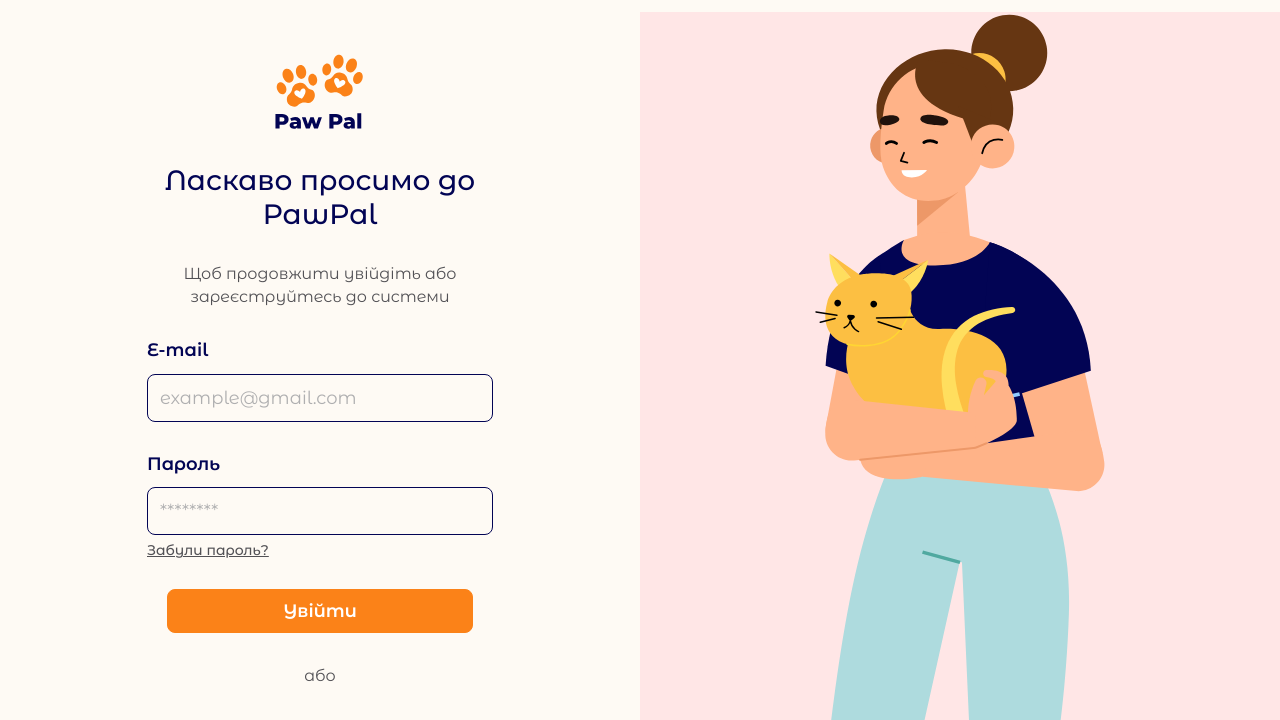
Test: SignUpForm Login › should show validation errors for empty fields
The width and height of the screenshot is (1280, 720).
// Try to submit form without filling fields
Click the button "Увійти" at (320,611), box [167,589,473,633]
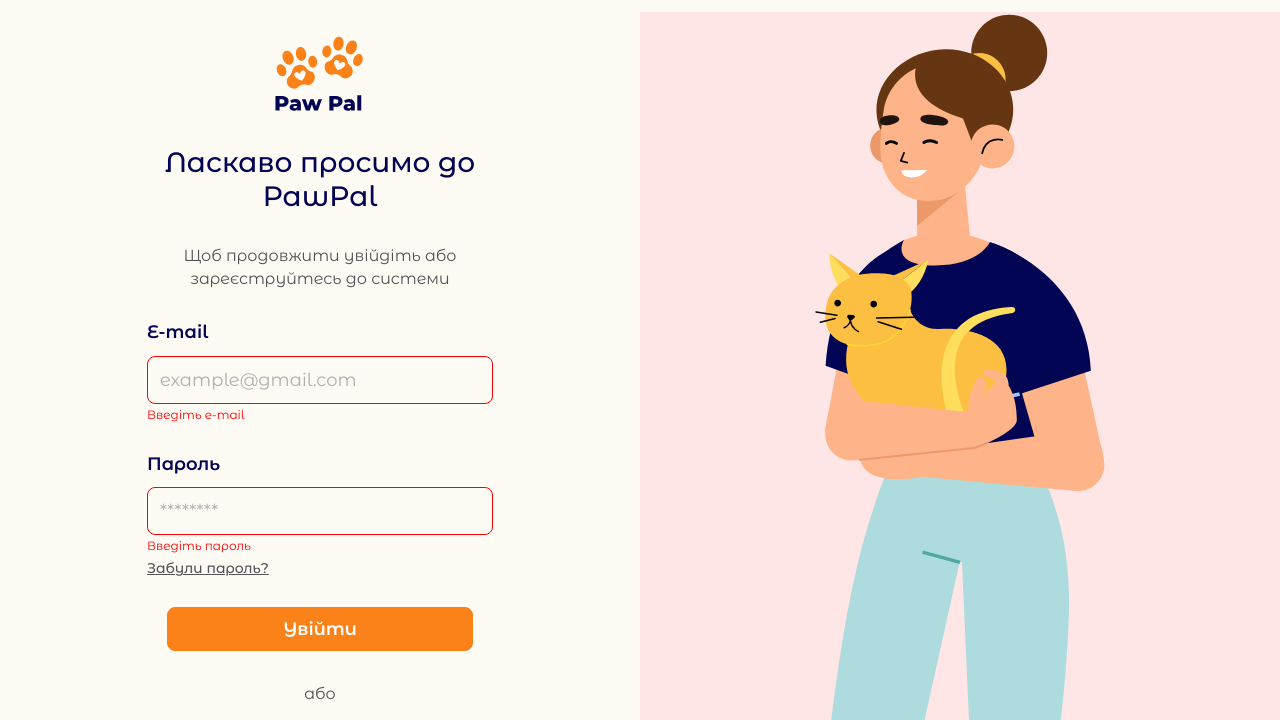
Result: the text "Введіть e-mail" is shown at [147,407,244,422]
Result: the text "Введіть пароль" is shown at [147,538,251,553]
